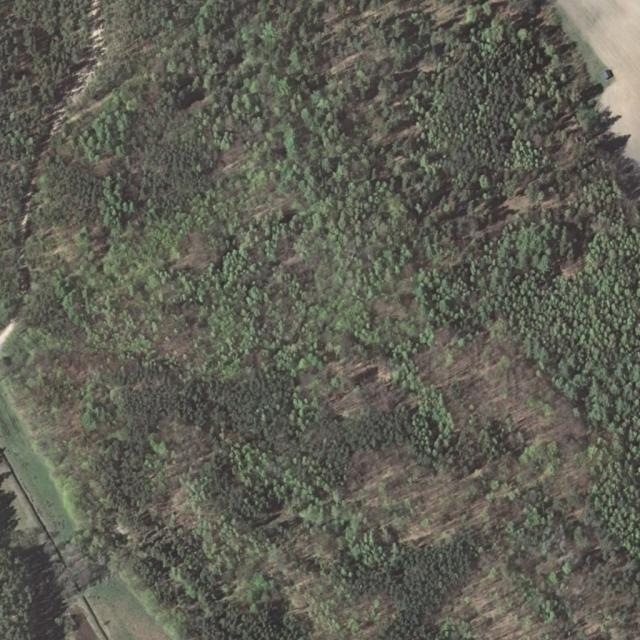greenland: (0, 472, 65, 639)
